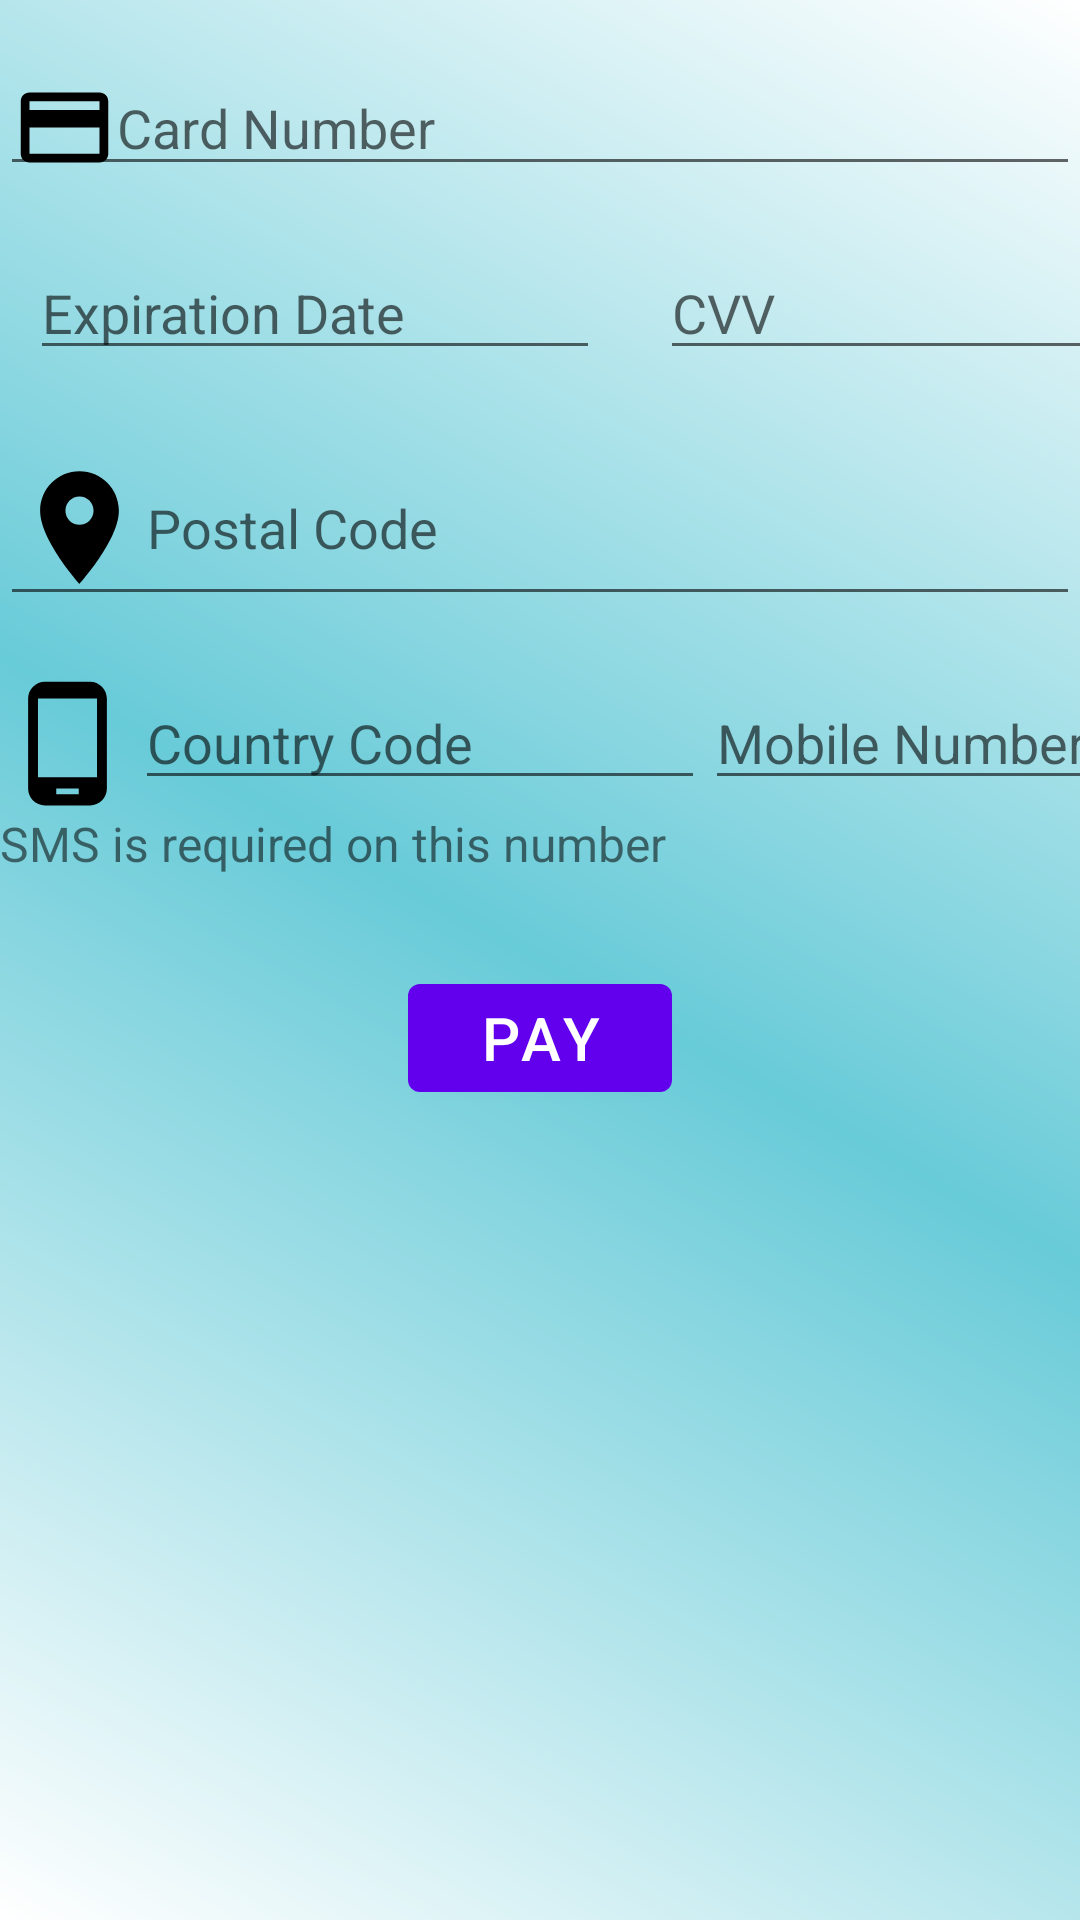

Screen size 1080×1920. Icon name, then its box in pixels as (x1, y1, x2, y2):
phone android: (28, 681, 107, 806)
